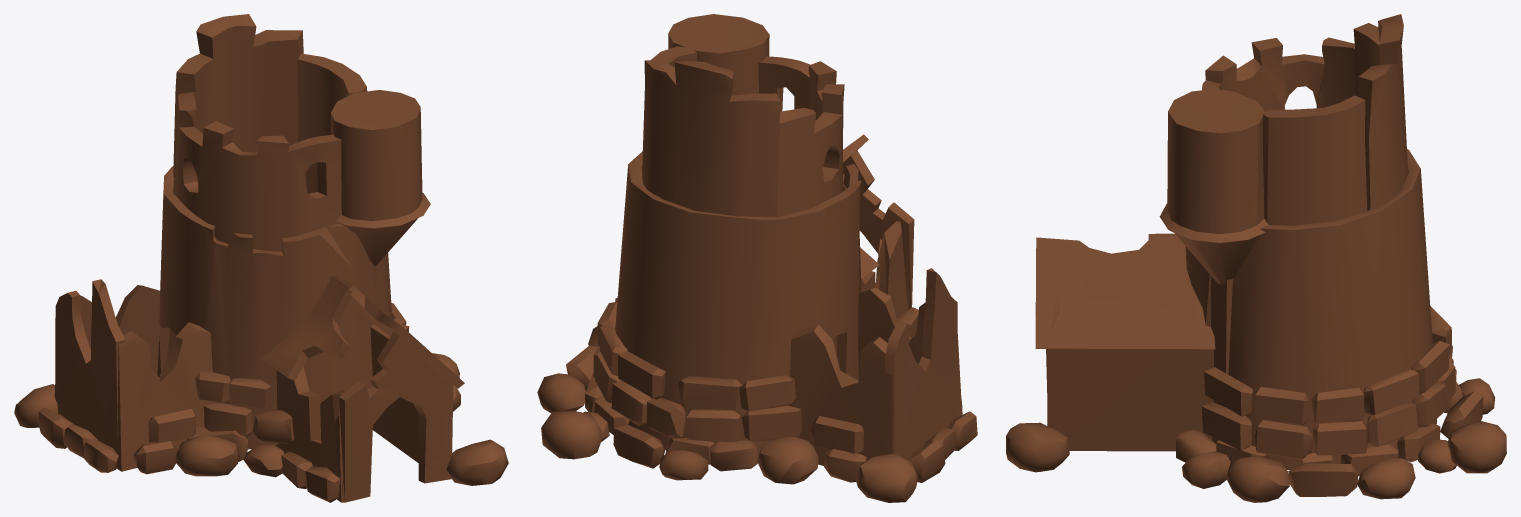
Rendered from castle_d3.glb.
The picture shows the model from 3 angles, left to right: view 1: azimuth 30°, elevation 25°; view 2: azimuth 150°, elevation 25°; view 3: azimuth 270°, elevation 25°; orthographic projection. The views are drawn at different scales.
Visible parts, largest first — view 1: castle; view 2: castle; view 3: castle.
Boxes of the visible parts, bbox=[...] form: castle: bbox=[14, 14, 508, 502]; castle: bbox=[537, 14, 977, 502]; castle: bbox=[1006, 14, 1506, 502].
Size of the model in its own units: 2.73 by 2.53 by 2.9.
